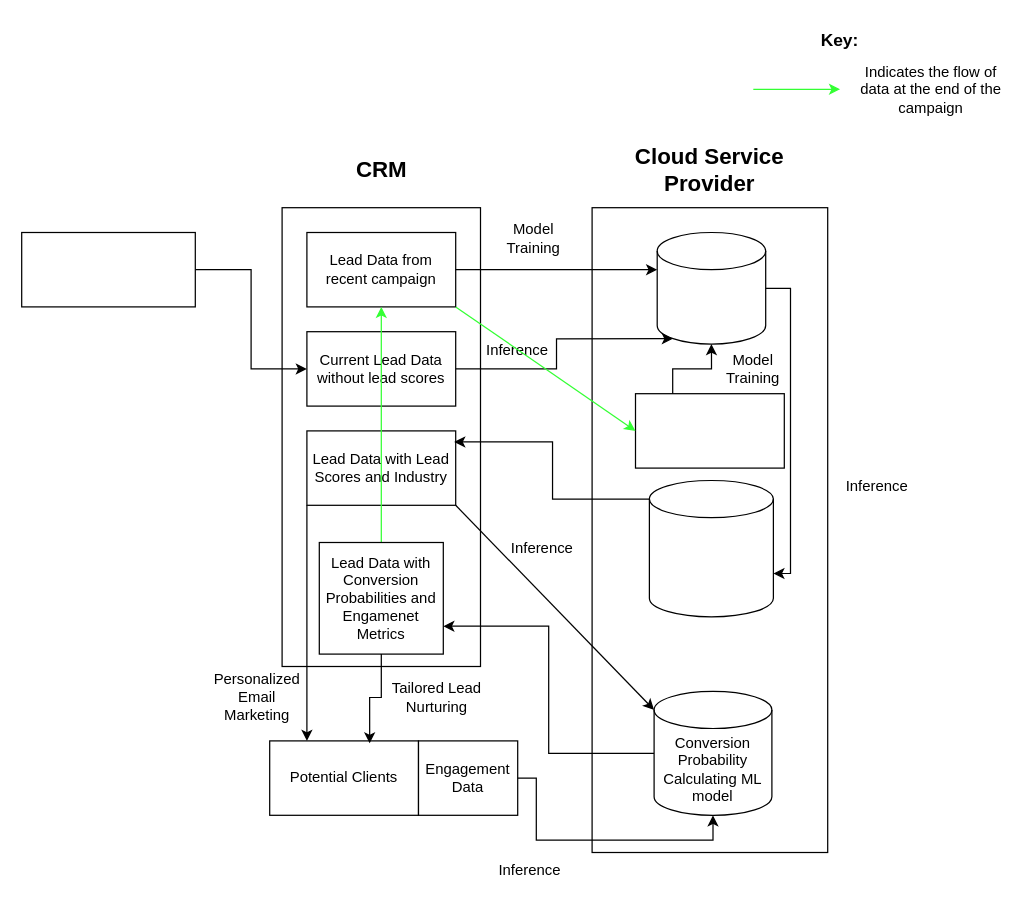
Image size: 1032x910. Some labels were removed from this diagram. Here are the shapes that lost their labels. From the top down, the box of each, then its label:
(20, 231, 195, 307): SME Data
(656, 231, 766, 344): Lead Scoring ML model
(634, 392, 784, 468): Lead and Client data from very old campaigns
(648, 479, 773, 617): Industry Classification ML model.
